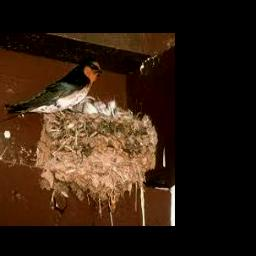Swallow: (5, 59, 102, 115)
